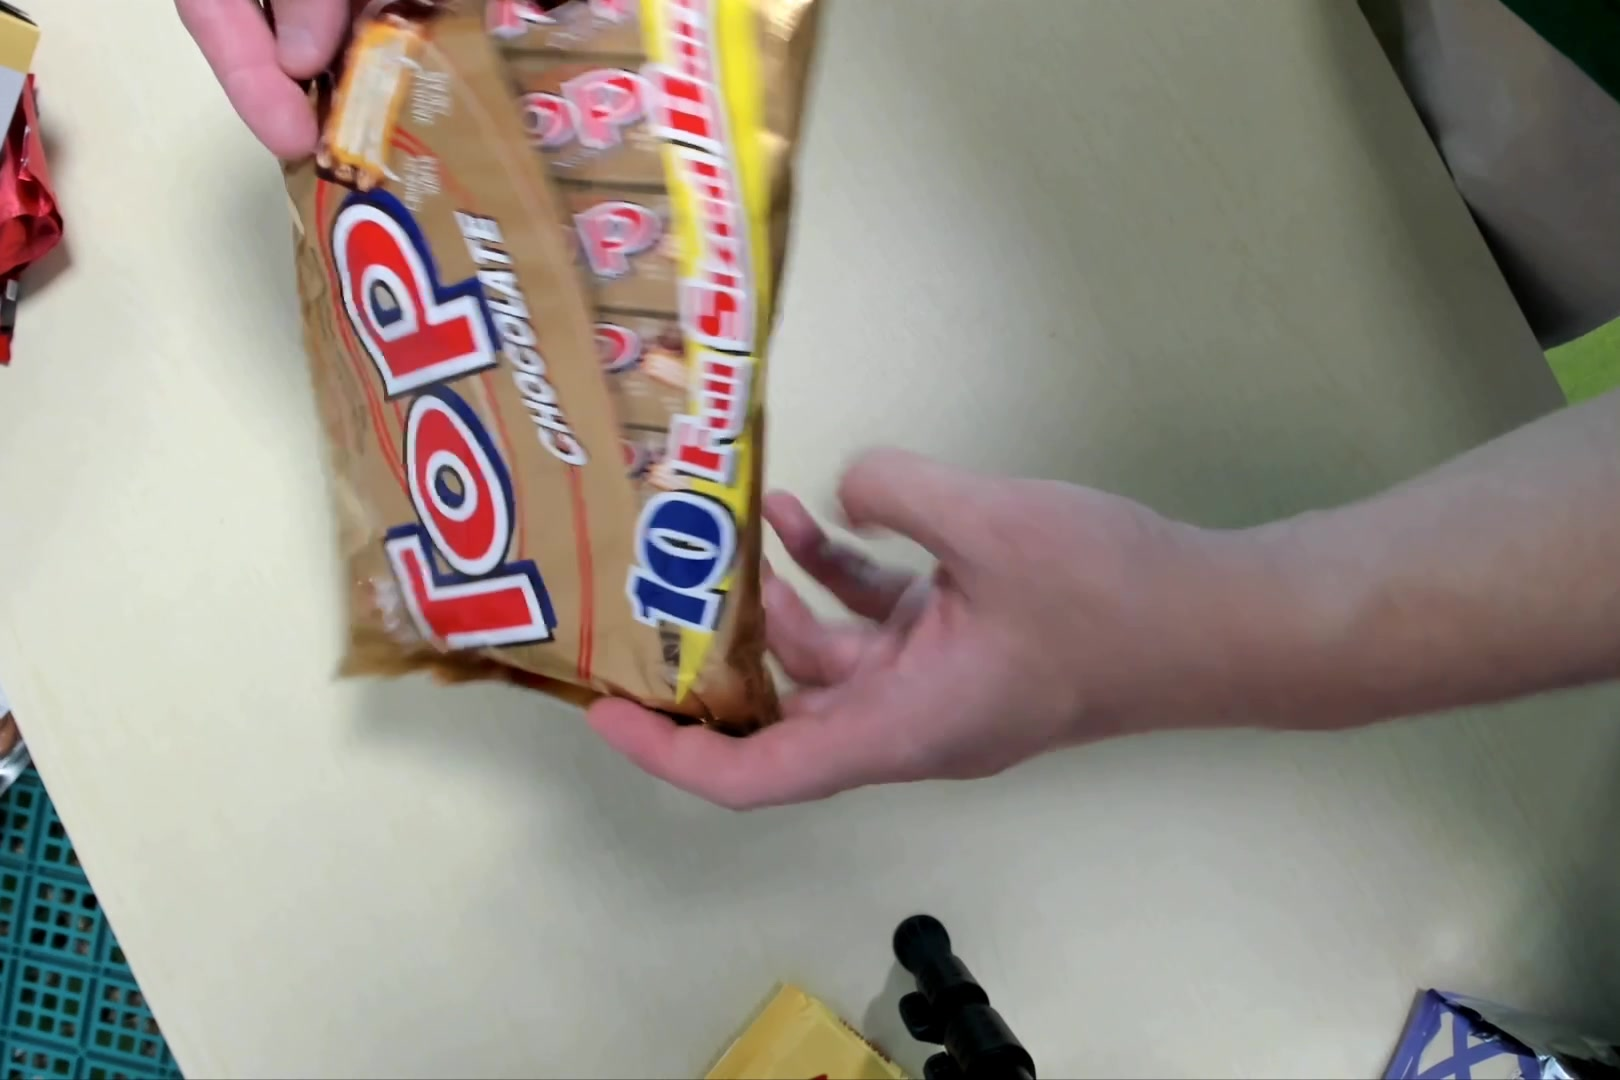SweetsChocolatesOthers_100-199g_NonHalal_NonHealthy: (270, 2, 800, 722)
